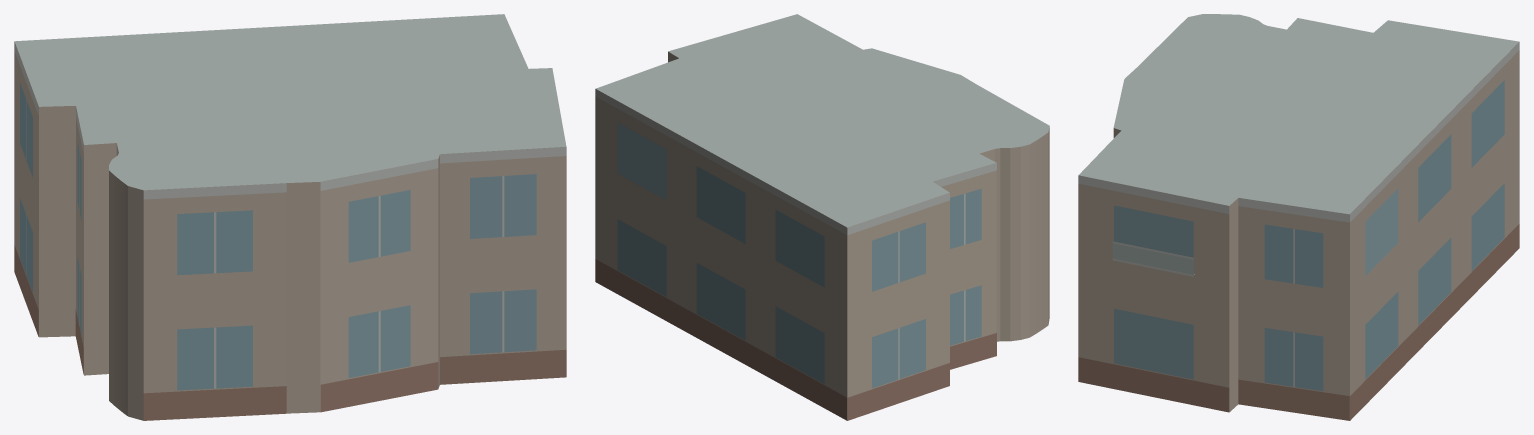
Rendered from survey-upis-32938312.glb.
3 views of the same model, side by side, from view 1: azimuth 30°, elevation 25°; view 2: azimuth 150°, elevation 25°; view 3: azimuth 270°, elevation 25° (orthographic). The views are drawn at different scales.
Visible parts, largest first — view 1: survey-upis-32938312.tmp; view 2: survey-upis-32938312.tmp; view 3: survey-upis-32938312.tmp.
Boxes of the visible parts, left/top/right/bottom form: survey-upis-32938312.tmp: left=14, top=14, right=566, bottom=420; survey-upis-32938312.tmp: left=595, top=14, right=1049, bottom=420; survey-upis-32938312.tmp: left=1078, top=14, right=1519, bottom=420.
Bounding box in the file's own units: 12.7 × 6.1 × 11.82.
